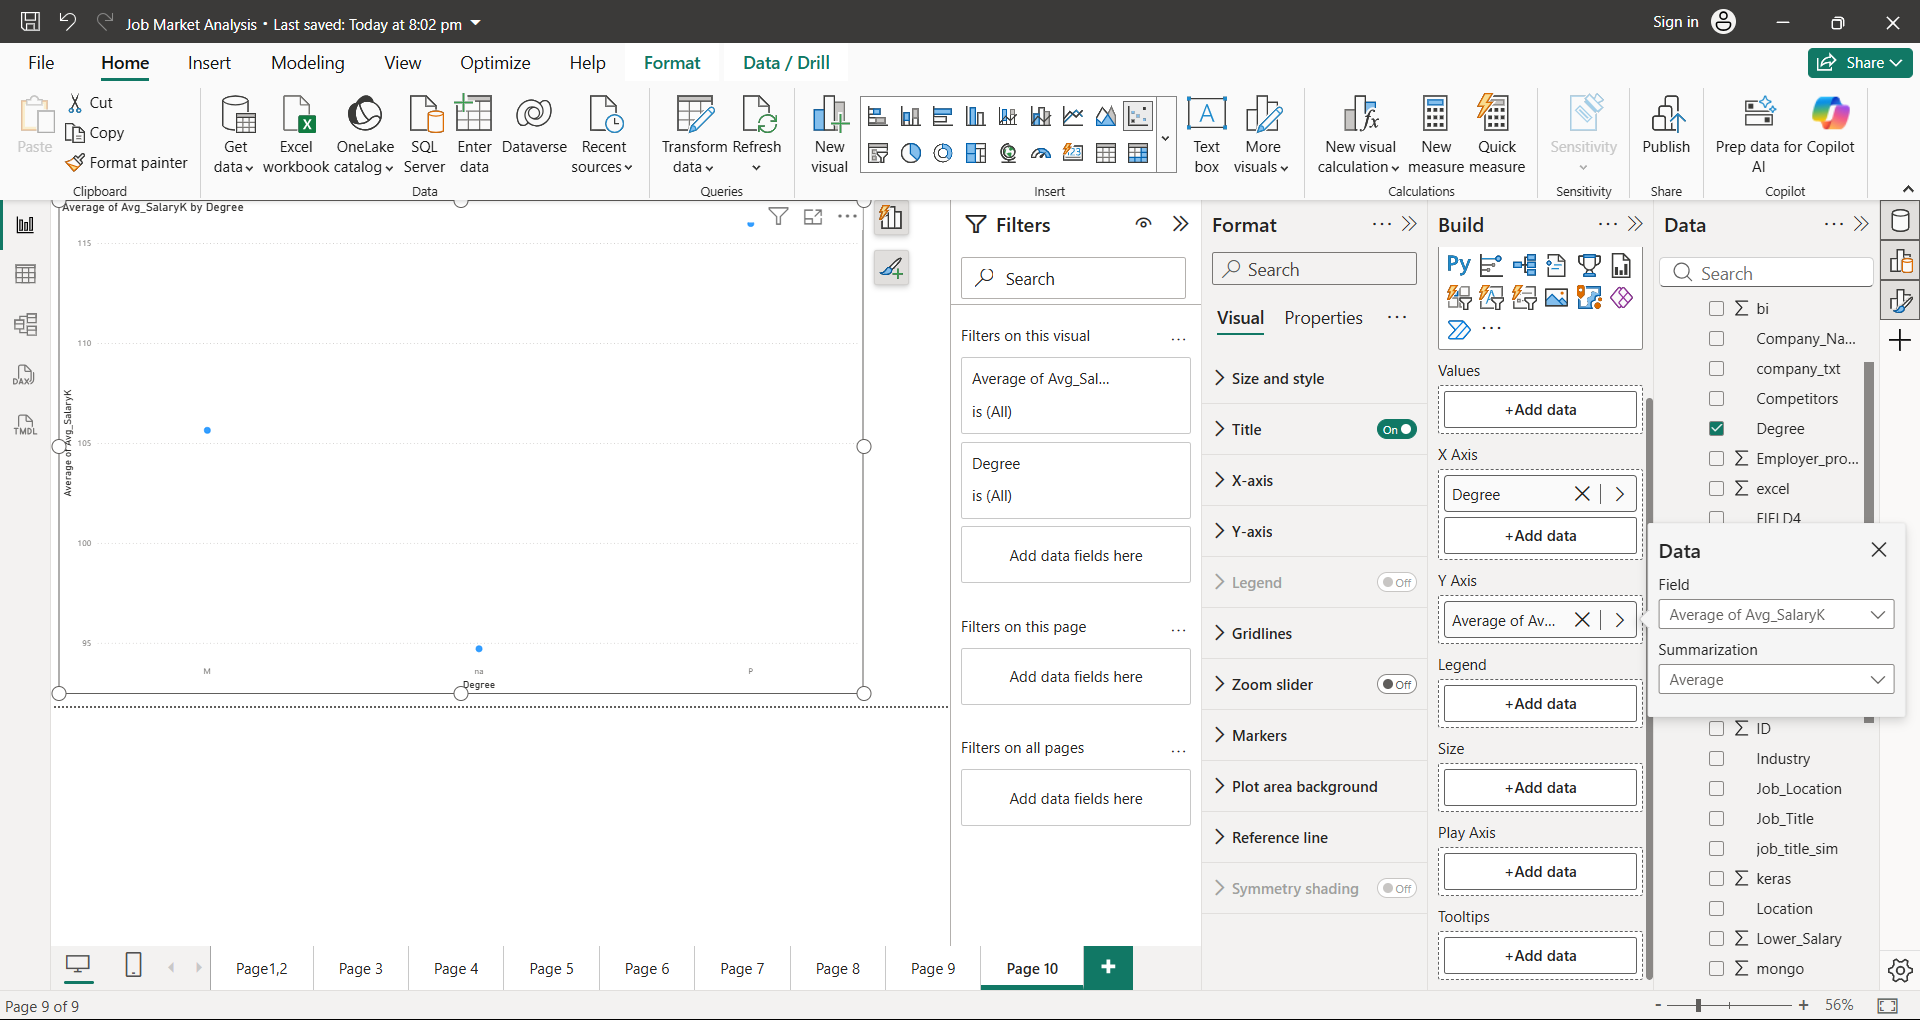

The page's visual inventory and layout, read from the dashboard file:
{"tool":"powerbi","page":{"name":"Page 10","canvas":[1280,720],"ordinal":8},"visuals":[{"type":"scatterChart","fields":{"X":["project_job_market_analysis Market.Degree"],"Y":["Avg(project_job_market_analysis Market.Avg_SalaryK)"]},"box":[10.7,0,1146.2,703],"z":0}]}

Visuals, with their boxes on the page's 1280x720 design canvas (x1, y1, x2, y2). These are canvas units, not pixel positions in the 1920x1020 screenshot, which may show the page scaled, cropped or inside an application window:
scatterChart - project_job_market_analysis Market.Degree x Avg(project_job_market_analysis Market.Avg_SalaryK): BBox(11, 0, 1157, 703)
